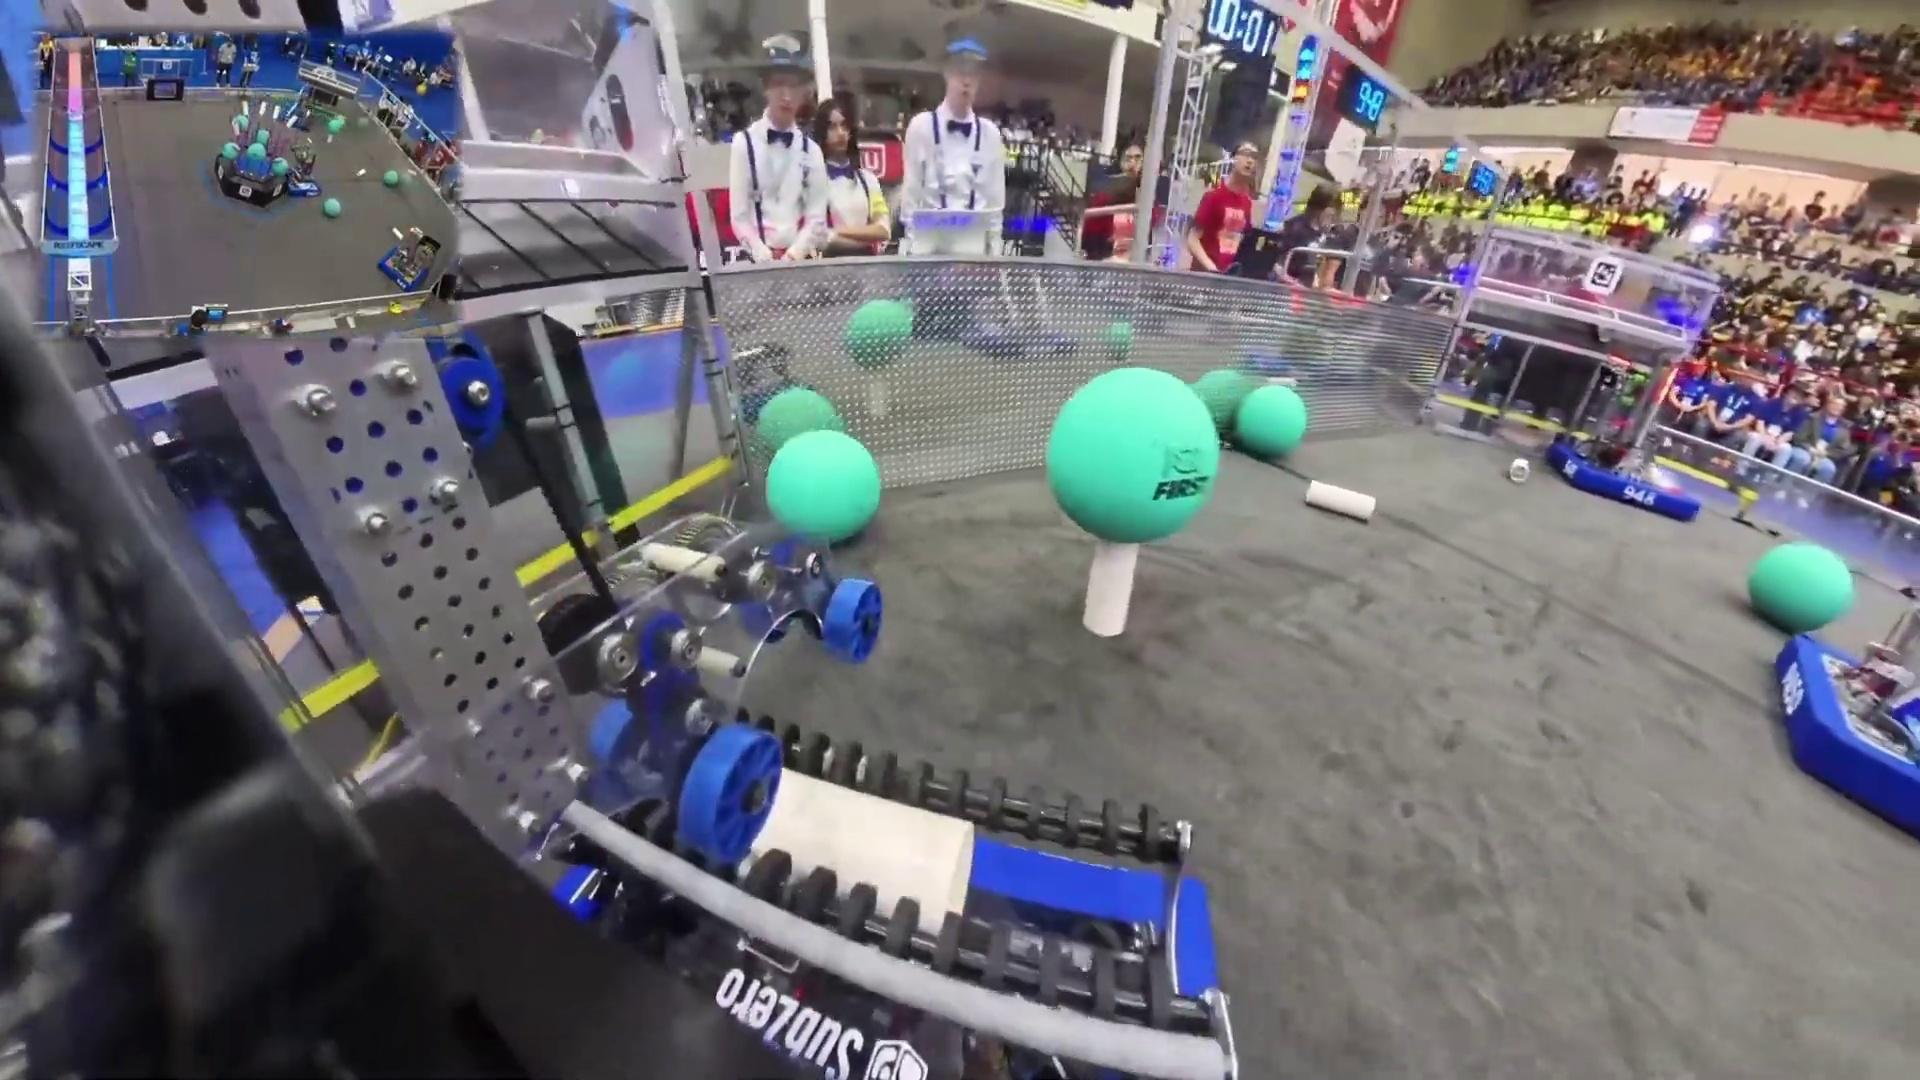robot: (1774, 588, 1920, 845), (1549, 357, 1701, 525), (378, 228, 438, 294), (286, 149, 323, 199)
